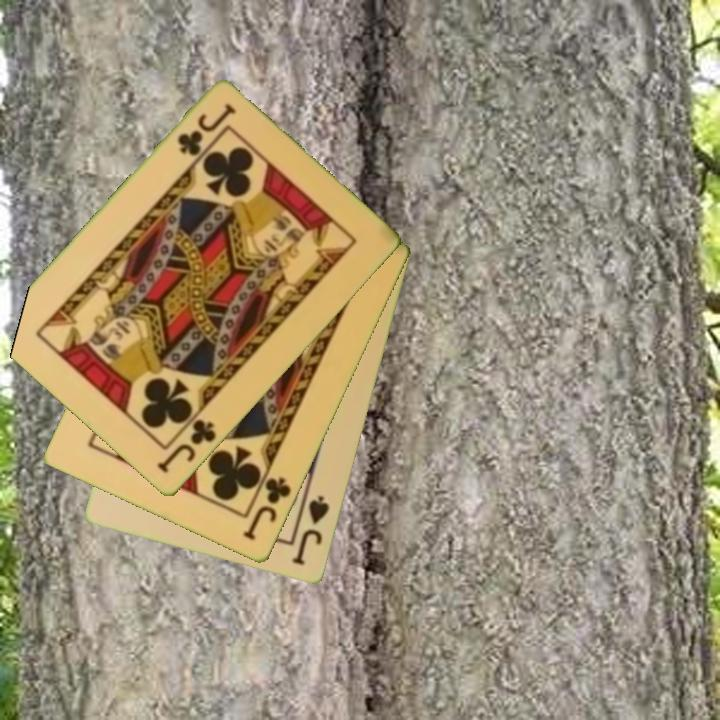Jc: (154, 416, 220, 477), (240, 474, 295, 544), (174, 100, 238, 160)
Js: (288, 492, 333, 569)
